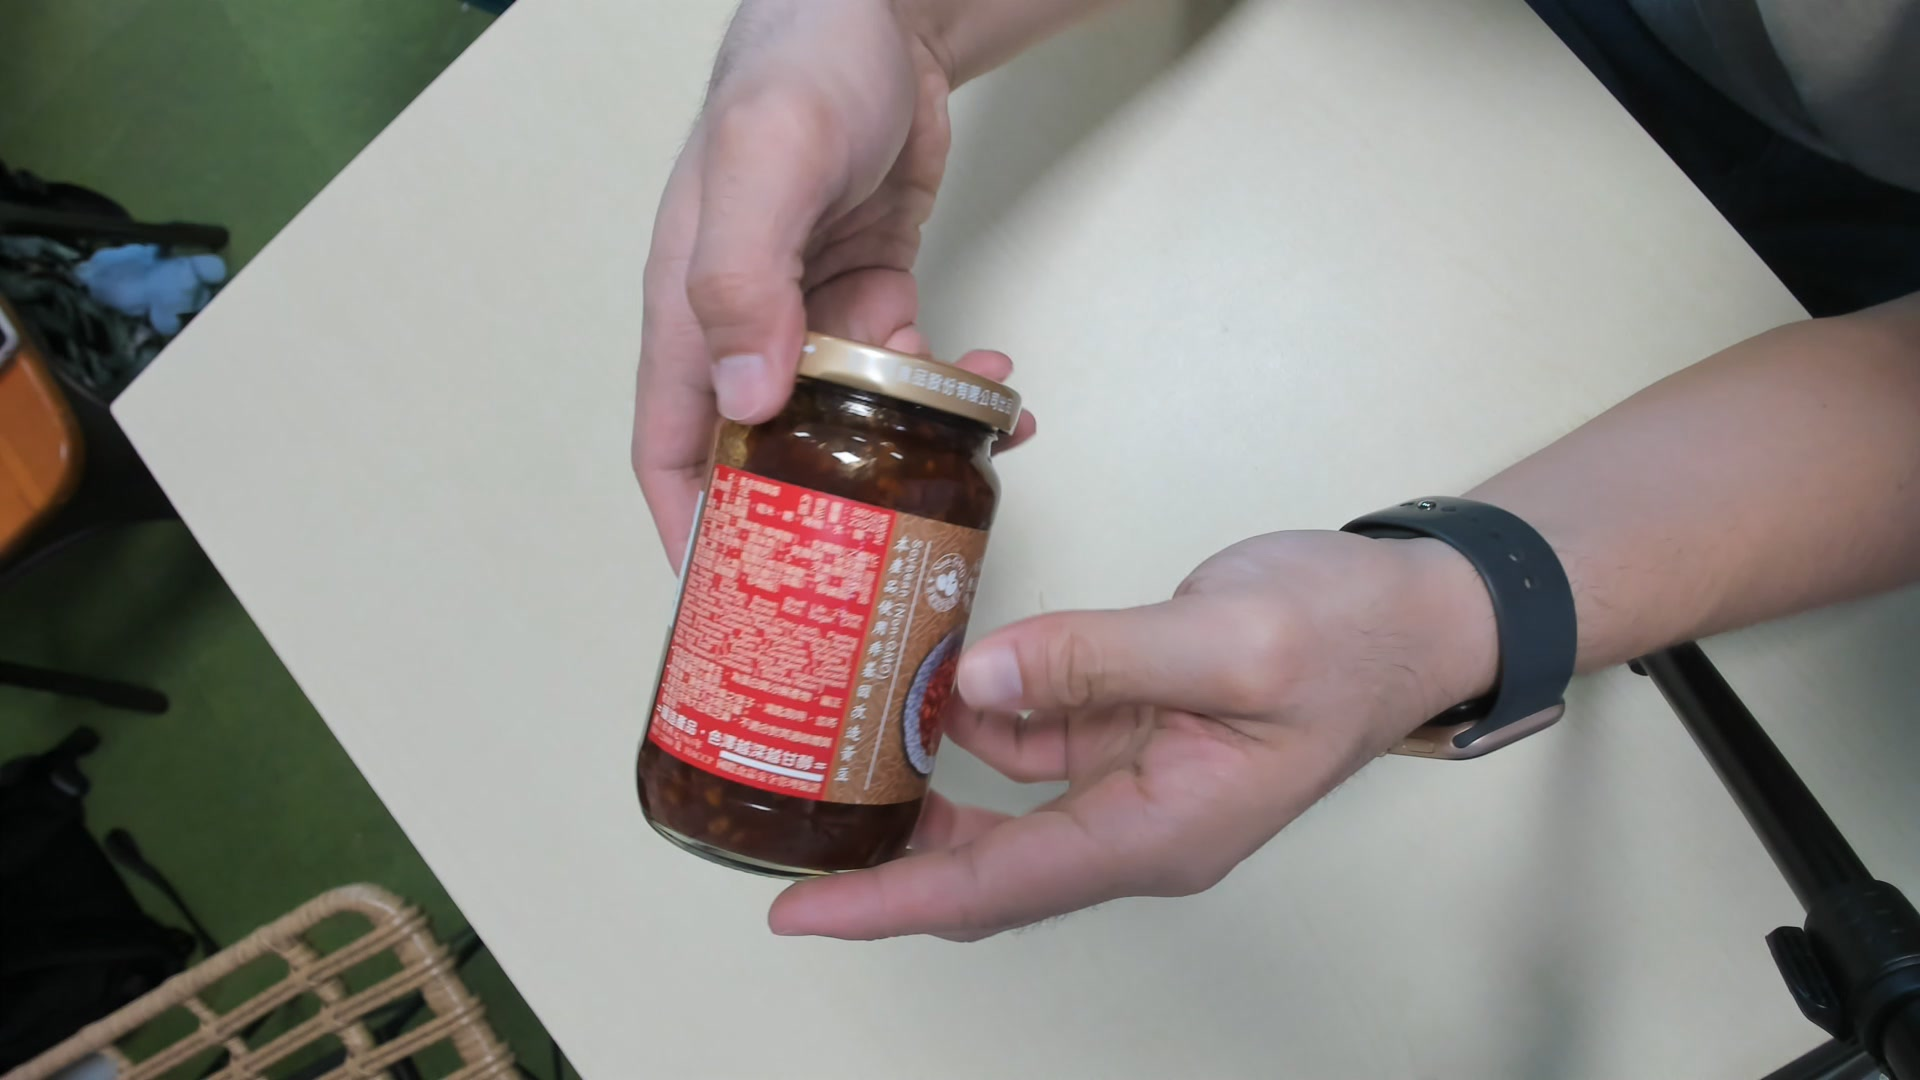OtherSauceDressing_300-399g_NonHalal_NonHealthy: (637, 313, 1027, 877)
